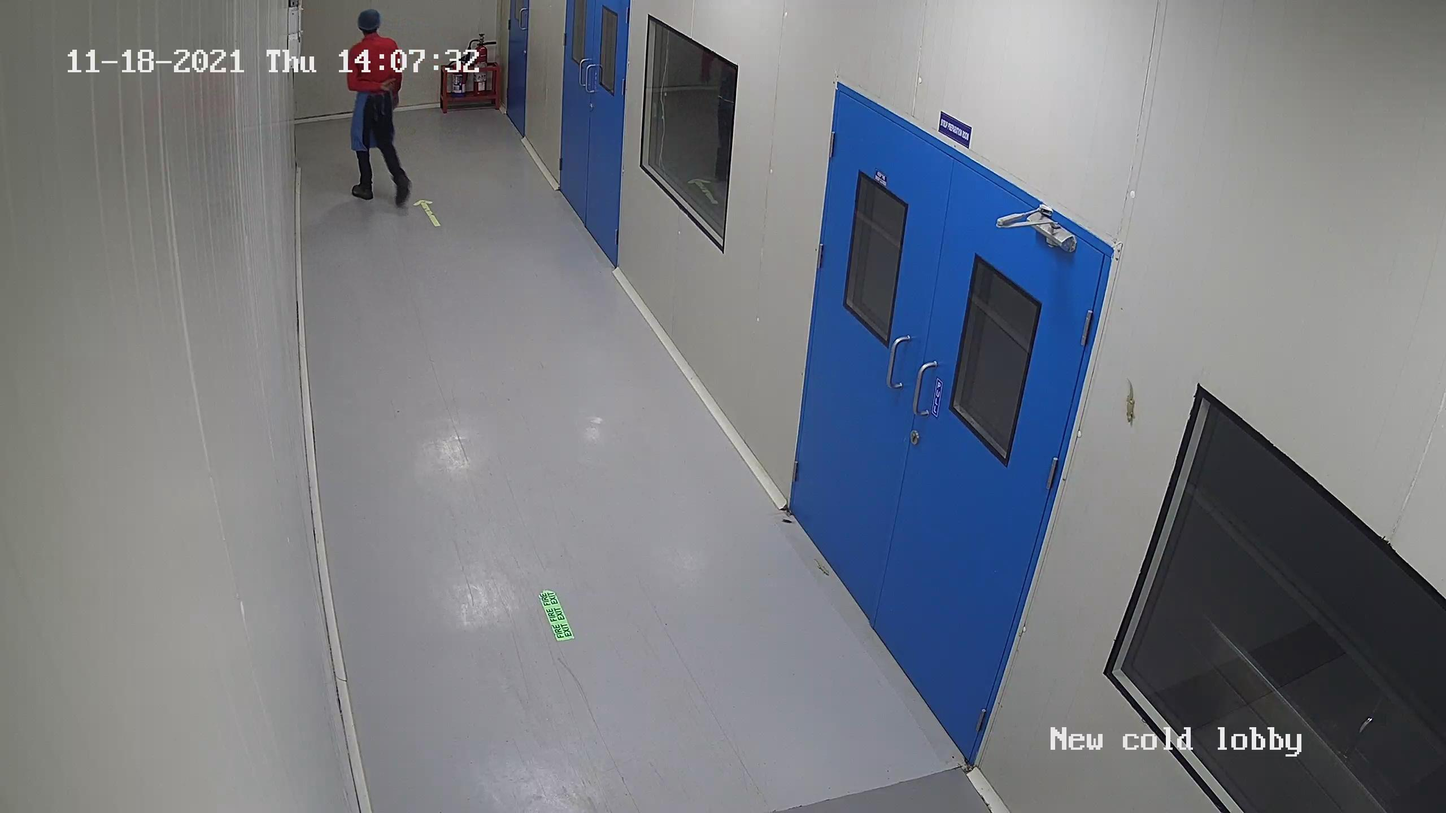cockroach: (778, 512, 796, 529)
lizard: (1124, 377, 1137, 431), (809, 551, 832, 580)
